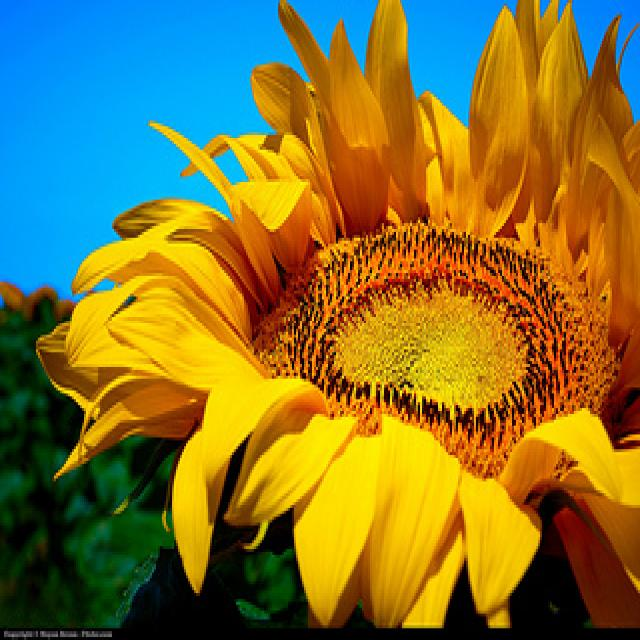sunflower: (52, 9, 640, 634)
